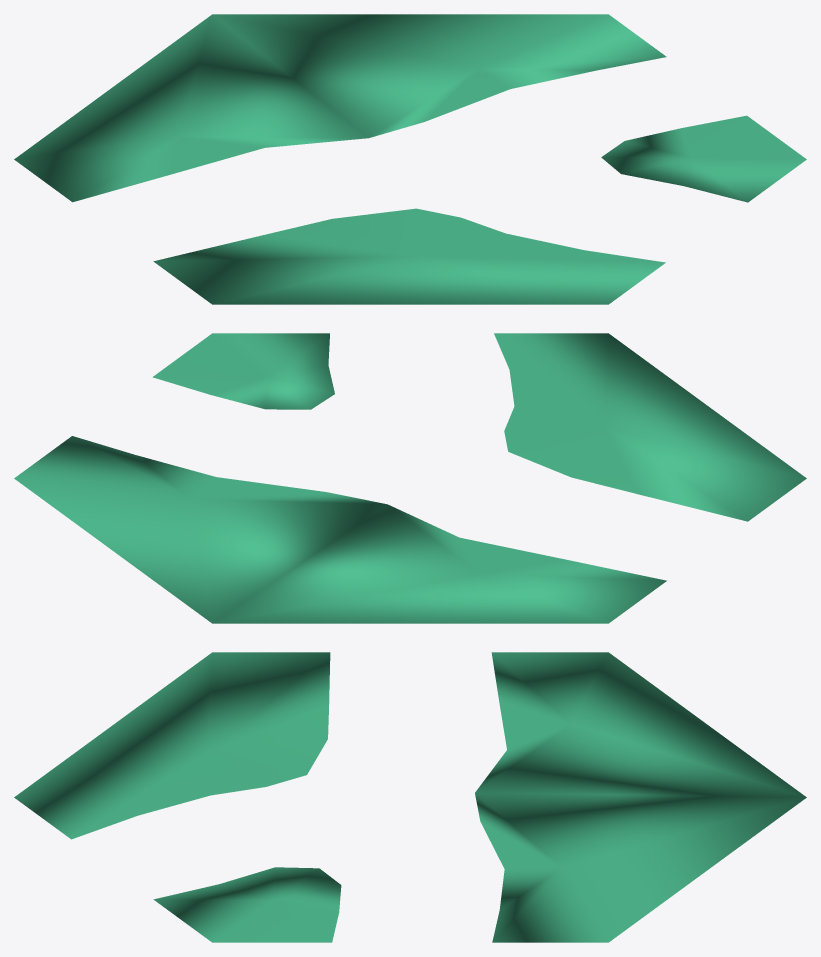
Rendered from riverE_flat.fbx.
The picture shows the model from 3 angles, top to bottom: view 1: azimuth 30°, elevation 25°; view 2: azimuth 150°, elevation 25°; view 3: azimuth 270°, elevation 25°; orthographic projection.
Visible parts, largest first — view 1: hex_forest_roadE_Cylinder.490; view 2: hex_forest_roadE_Cylinder.490; view 3: hex_forest_roadE_Cylinder.490.
Boxes of the visible parts, x1,y1,x2,y2 form: hex_forest_roadE_Cylinder.490: (14,14,806,304); hex_forest_roadE_Cylinder.490: (14,333,806,623); hex_forest_roadE_Cylinder.490: (14,652,806,942).
Bounding box in the file's own units: 190 × 1.66e-05 × 220.
